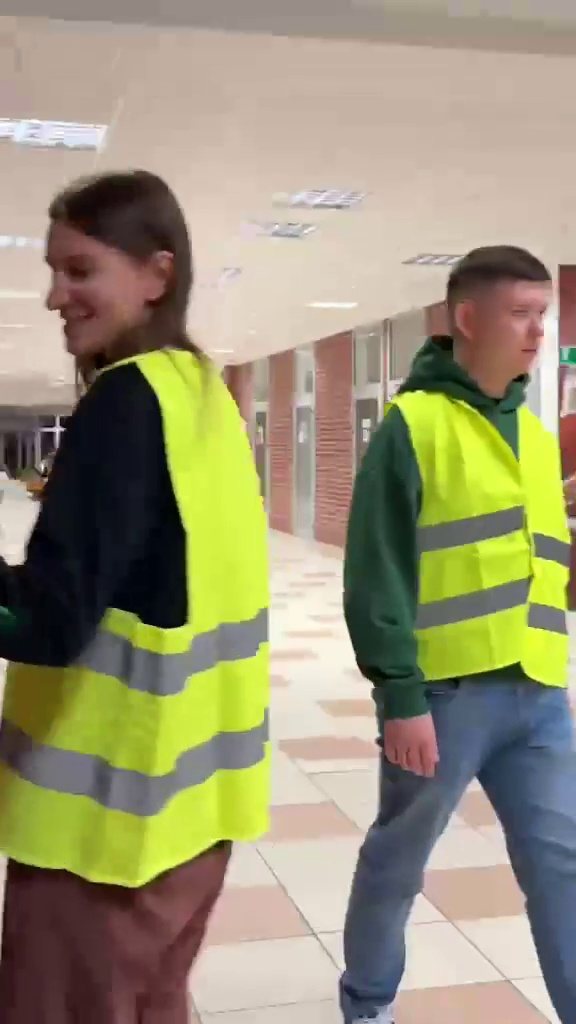vest: (14, 166, 269, 982), (344, 224, 576, 989)
